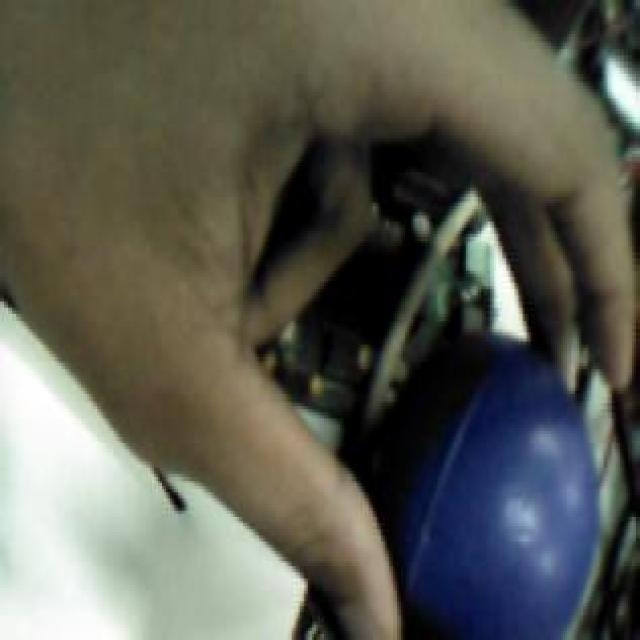BallPurple: (386, 336, 598, 640)
